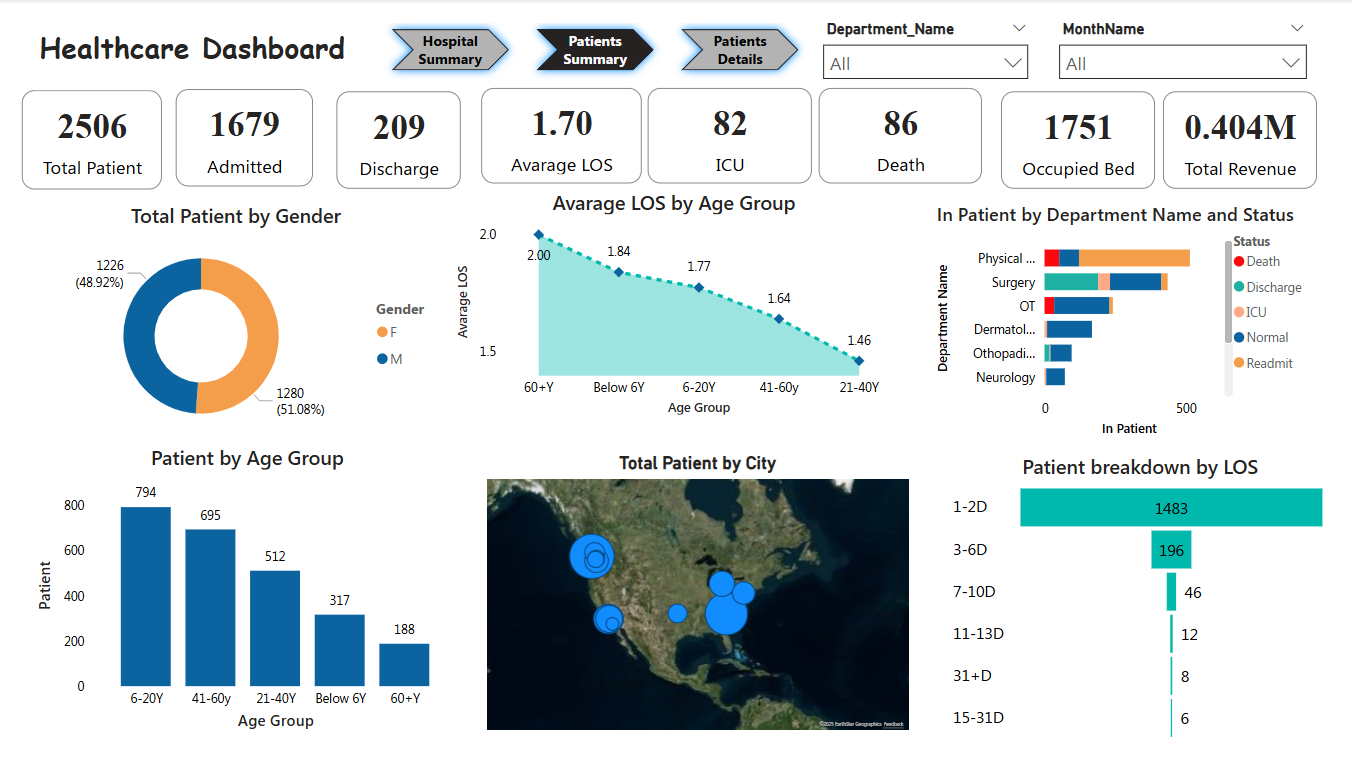

What the dashboard file says about the page in this screenshot:
{"tool":"powerbi","page":{"name":"Patients Summary ","canvas":[1280,720],"ordinal":1},"visuals":[{"type":"cardVisual","fields":{"Data":["Measure.Total Patient"]},"box":[21.2,86.2,132.5,93.8],"z":0},{"type":"textbox","box":[32.9,20.6,330.4,65.8],"z":1000},{"type":"slicer","fields":{"Values":["Department.Department_Name"]},"box":[769.2,15.1,213.9,71.3],"z":2000},{"type":"slicer","fields":{"Values":["Calendar_date.MonthName"]},"box":[992.6,15.1,253.6,71.3],"z":3000},{"type":"cardVisual","fields":{"Data":["Measure.In Patient"]},"box":[167.5,85.6,129.6,91.7],"z":4000},{"type":"cardVisual","fields":{"Data":["Measure.Total Discharge"]},"box":[319,86.8,117.4,91.7],"z":5000},{"type":"cardVisual","fields":{"Data":["Measure.Avarage LOS"]},"box":[456,84.3,151.6,90.5],"z":6000},{"type":"cardVisual","fields":{"Data":["Measure.ICU"]},"box":[613.7,84.3,155.2,90.5],"z":7000},{"type":"cardVisual","fields":{"Data":["Measure.Death"]},"box":[775,84.3,154,90.5],"z":8000},{"type":"cardVisual","fields":{"Data":["Measure.Occupied Bed"]},"box":[947.4,86.8,145.5,91.7],"z":9000},{"type":"cardVisual","fields":{"Data":["Measure.Total Revenue"]},"box":[1100.2,86.8,145.5,91.7],"z":10000},{"type":"donutChart","fields":{"Category":["Detail data dataset.Gender"],"Y":["Measure.Total Patient"]},"box":[20.8,191.9,407.1,228.6],"z":11000},{"type":"columnChart","fields":{"Y":["Measure.Total Patient"],"Category":["Detail data dataset.Age Bucket"]},"box":[31.4,420,407.1,275.7],"z":12000},{"type":"areaChart","fields":{"Y":["Measure.Avarage LOS"],"Category":["Detail data dataset.Age Bucket"]},"box":[427.8,178.5,420.5,218.8],"z":13000},{"type":"barChart","fields":{"Category":["Department.Department_Name"],"Y":["Measure.In Patient"],"Series":["Detail data dataset.Status"]},"box":[881.4,191.9,364.3,226.1],"z":14000},{"type":"funnel","title":"Patient breakdown by LOS","fields":{"Y":["Measure.Total Patient"],"Category":["Detail data dataset.Custom"]},"box":[897.2,429.1,364.3,277.5],"z":15000},{"type":"azureMap","fields":{"Size":["Measure.Total Patient"],"Category":["Detail data dataset.City"]},"box":[456,429.1,409.5,267.7],"z":16000},{"type":"pageNavigator","box":[363.1,20.8,402.2,55],"z":17000}]}

Visuals, with their boxes in screenshot pixels (x1, y1, x2, y2), scaled from the page's 1280x720 canvas onto the 1352x757 screenshot:
cardVisual - Measure.Total Patient: [22,91,162,189]
textbox: [35,22,384,91]
slicer - Department.Department_Name: [812,16,1038,91]
slicer - Calendar_date.MonthName: [1048,16,1316,91]
cardVisual - Measure.In Patient: [177,90,314,186]
cardVisual - Measure.Total Discharge: [337,91,461,188]
cardVisual - Measure.Avarage LOS: [482,89,642,184]
cardVisual - Measure.ICU: [648,89,812,184]
cardVisual - Measure.Death: [819,89,981,184]
cardVisual - Measure.Occupied Bed: [1001,91,1154,188]
cardVisual - Measure.Total Revenue: [1162,91,1316,188]
donutChart - Detail data dataset.Gender x Measure.Total Patient: [22,202,452,442]
columnChart - Measure.Total Patient x Detail data dataset.Age Bucket: [33,442,463,731]
areaChart - Measure.Avarage LOS x Detail data dataset.Age Bucket: [452,188,896,418]
barChart - Department.Department_Name x Measure.In Patient: [931,202,1316,439]
"Patient breakdown by LOS" funnel: [948,451,1332,743]
azureMap - Measure.Total Patient x Detail data dataset.City: [482,451,914,733]
pageNavigator: [384,22,808,80]
